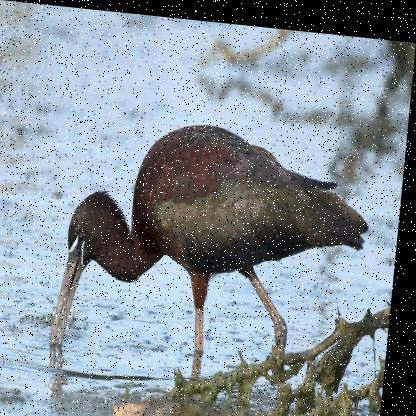Burung: (51, 109, 380, 372)
